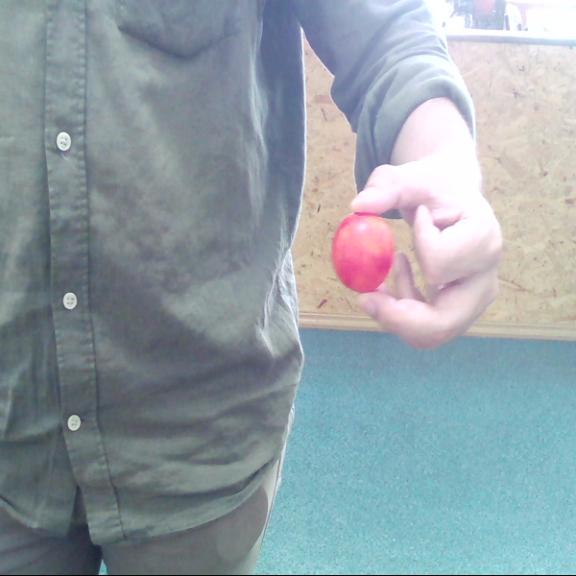ball: (331, 213, 395, 291)
